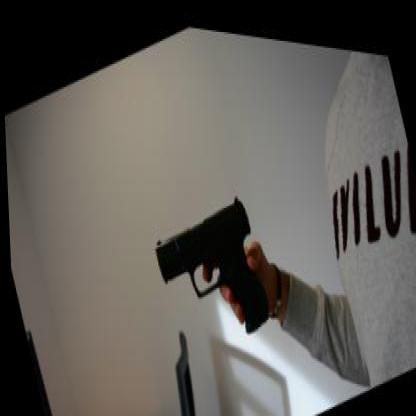pistol: (148, 174, 272, 372)
